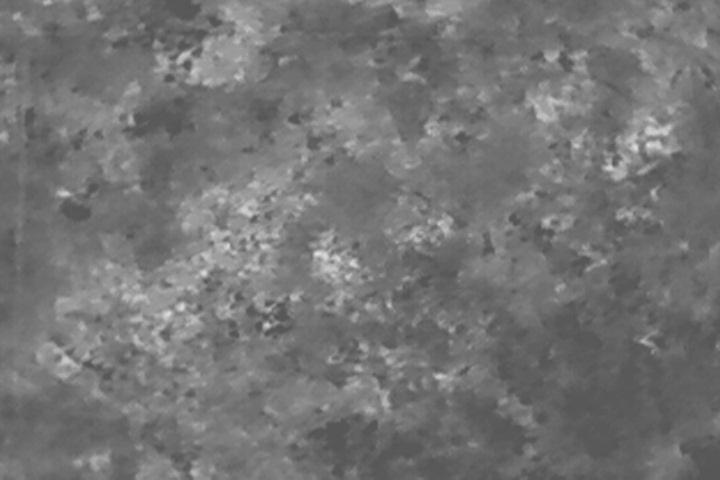landmine: (312, 237, 362, 286)
